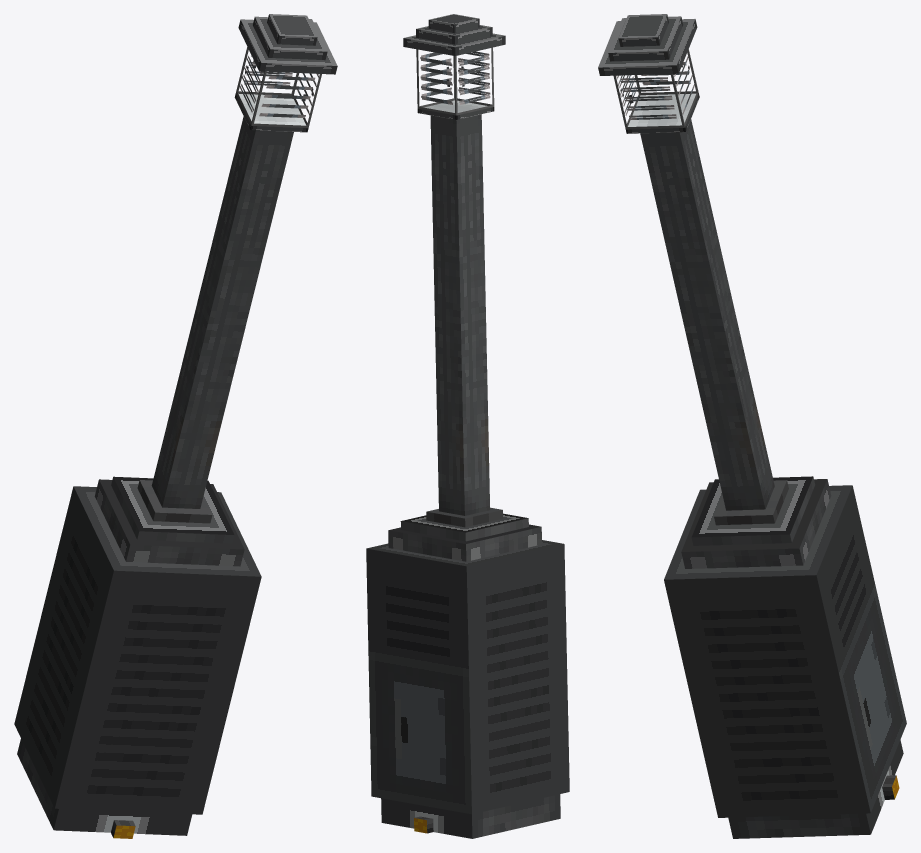
File: inventory.obj
The picture shows the model from 3 angles, left to right: view 1: azimuth 30°, elevation 25°; view 2: azimuth 150°, elevation 25°; view 3: azimuth 270°, elevation 25°; orthographic projection. The views are drawn at different scales.
Visible parts, largest first — view 1: power_box, pillar, stem_ground_base, stem_base, wire_box, top0, lamp_base, top1, glass2, top2, glass1, rim2 (+1 smaller); view 2: power_box, pillar, wire_box, stem_ground_base, stem_base, top0, glass1, glass3, top1, lamp_base, top2, glass2 (+3 smaller); view 3: power_box, pillar, stem_ground_base, stem_base, wire_box, top0, lamp_base, glass0, top1, top2, rim3.
Boxes of the visible parts, bbox=[...] form: power_box: bbox=[14, 486, 261, 814]; pillar: bbox=[151, 116, 293, 508]; stem_ground_base: bbox=[94, 479, 244, 566]; stem_base: bbox=[111, 476, 234, 543]; wire_box: bbox=[17, 739, 192, 835]; top0: bbox=[238, 19, 337, 74]; lamp_base: bbox=[234, 93, 308, 132]; top1: bbox=[253, 16, 327, 60]; glass2: bbox=[251, 71, 320, 127]; top2: bbox=[267, 14, 317, 45]; glass1: bbox=[236, 47, 264, 125]; rim2: bbox=[150, 507, 202, 522]; power_box: bbox=[366, 540, 569, 814]; pillar: bbox=[430, 114, 489, 515]; wire_box: bbox=[381, 794, 560, 838]; stem_ground_base: bbox=[388, 524, 541, 561]; stem_base: bbox=[400, 513, 528, 541]; top0: bbox=[403, 33, 505, 55]; glass1: bbox=[454, 48, 493, 115]; glass3: bbox=[416, 49, 456, 115]; top1: bbox=[416, 25, 492, 44]; lamp_base: bbox=[417, 100, 494, 119]; top2: bbox=[428, 14, 479, 33]; glass2: bbox=[457, 47, 494, 106]; power_box: bbox=[664, 485, 906, 817]; pillar: bbox=[640, 119, 774, 510]; stem_ground_base: bbox=[681, 479, 831, 568]; stem_base: bbox=[691, 476, 815, 545]; wire_box: bbox=[728, 740, 903, 838]; top0: bbox=[598, 19, 697, 75]; lamp_base: bbox=[626, 93, 699, 133]; glass0: bbox=[613, 74, 684, 129]; top1: bbox=[608, 16, 683, 61]; top2: bbox=[618, 14, 668, 46]; rim3: bbox=[714, 509, 765, 525].
Size of the model in its own units: 0.2206 by 0.7845 by 0.2585.
